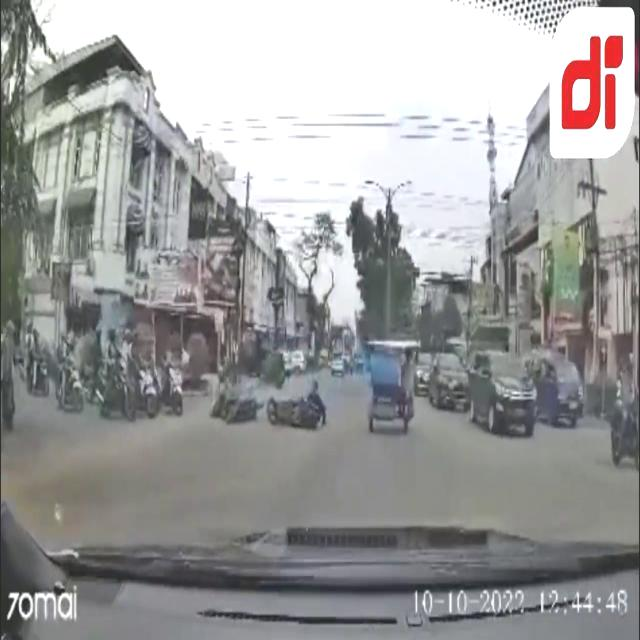accident: (210, 394, 324, 424), (266, 397, 322, 423), (212, 396, 258, 422)
non-accident: (416, 348, 584, 438), (472, 352, 582, 440), (432, 352, 534, 436), (90, 328, 182, 418), (416, 352, 472, 410)
